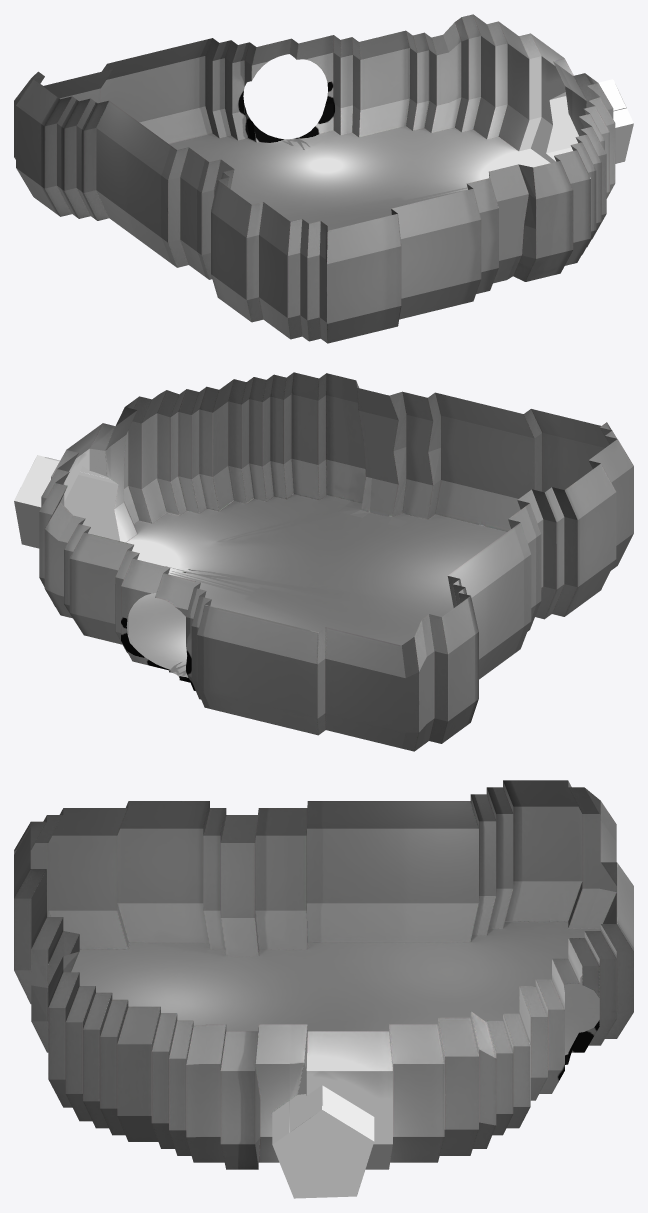
The picture shows the model from 3 angles, top to bottom: view 1: azimuth 30°, elevation 25°; view 2: azimuth 150°, elevation 25°; view 3: azimuth 270°, elevation 25°; orthographic projection. The views are drawn at different scales.
Visible parts, largest first — view 1: __ld59_export_tmp__; view 2: __ld59_export_tmp__; view 3: __ld59_export_tmp__.
Part boxes in pixels (x1,y1,x2,y2): __ld59_export_tmp__: (14,14,633,343); __ld59_export_tmp__: (14,372,633,751); __ld59_export_tmp__: (14,780,633,1198).
Size of the model in its own units: 208 by 47.9 by 190.
Materials: 1 (1 with a texture image).
